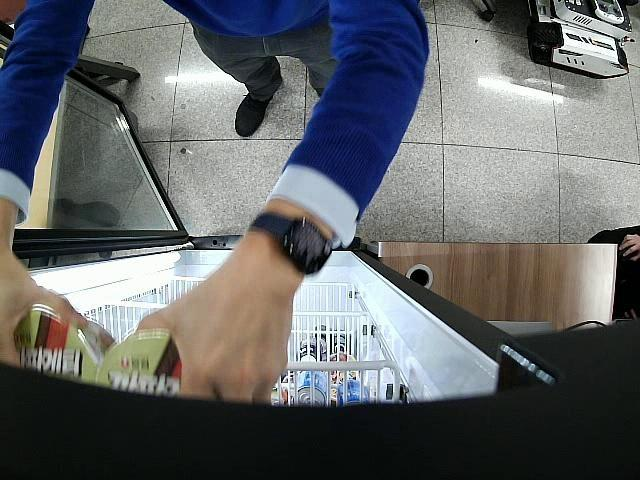03_chapagetti_L: (15, 306, 116, 388), (96, 330, 182, 397)
